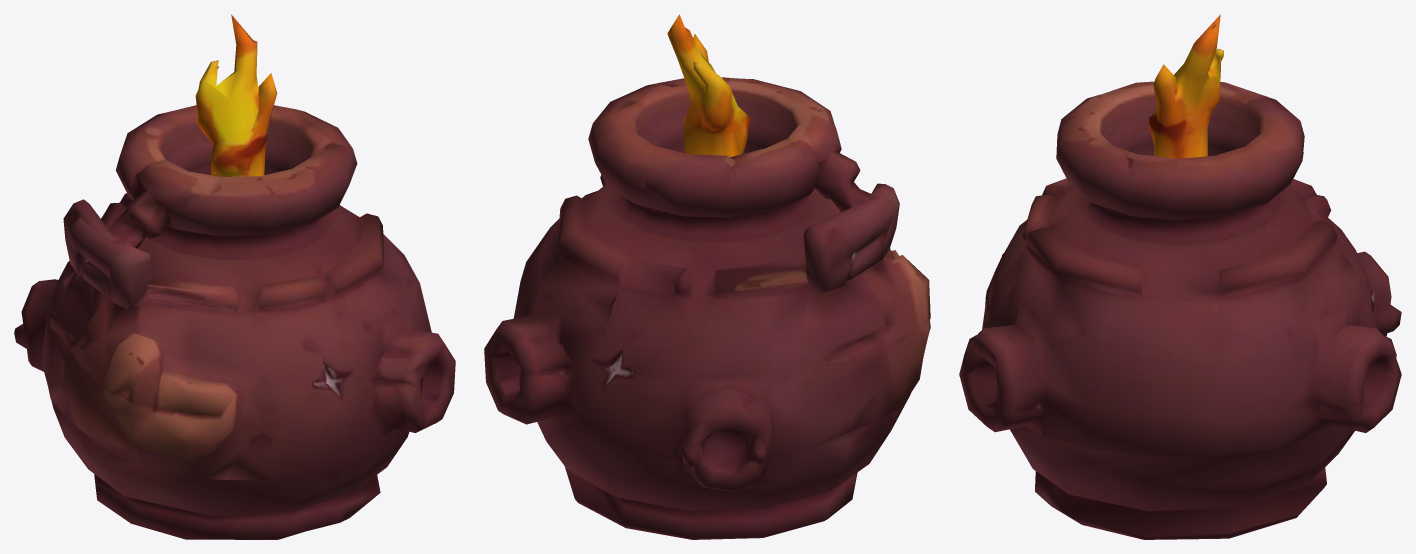
File: tocha_gideao.glb
3 renders of one model, left to right at view 1: azimuth 30°, elevation 25°; view 2: azimuth 150°, elevation 25°; view 3: azimuth 270°, elevation 25°, orthographic. The views are drawn at different scales.
Parts seen in each view (by area): view 1: tripo_node_756c2dc2-2552-41ff-aa74-2aa145a7ce58; view 2: tripo_node_756c2dc2-2552-41ff-aa74-2aa145a7ce58; view 3: tripo_node_756c2dc2-2552-41ff-aa74-2aa145a7ce58.
Boxes of the visible parts, <box> form: tripo_node_756c2dc2-2552-41ff-aa74-2aa145a7ce58: <box>14,14,455,539</box>; tripo_node_756c2dc2-2552-41ff-aa74-2aa145a7ce58: <box>484,14,930,539</box>; tripo_node_756c2dc2-2552-41ff-aa74-2aa145a7ce58: <box>959,14,1401,539</box>.
Bounding box in the file's own units: 0.7681 × 0.9787 × 0.8294.
1 material, 1 textured.
